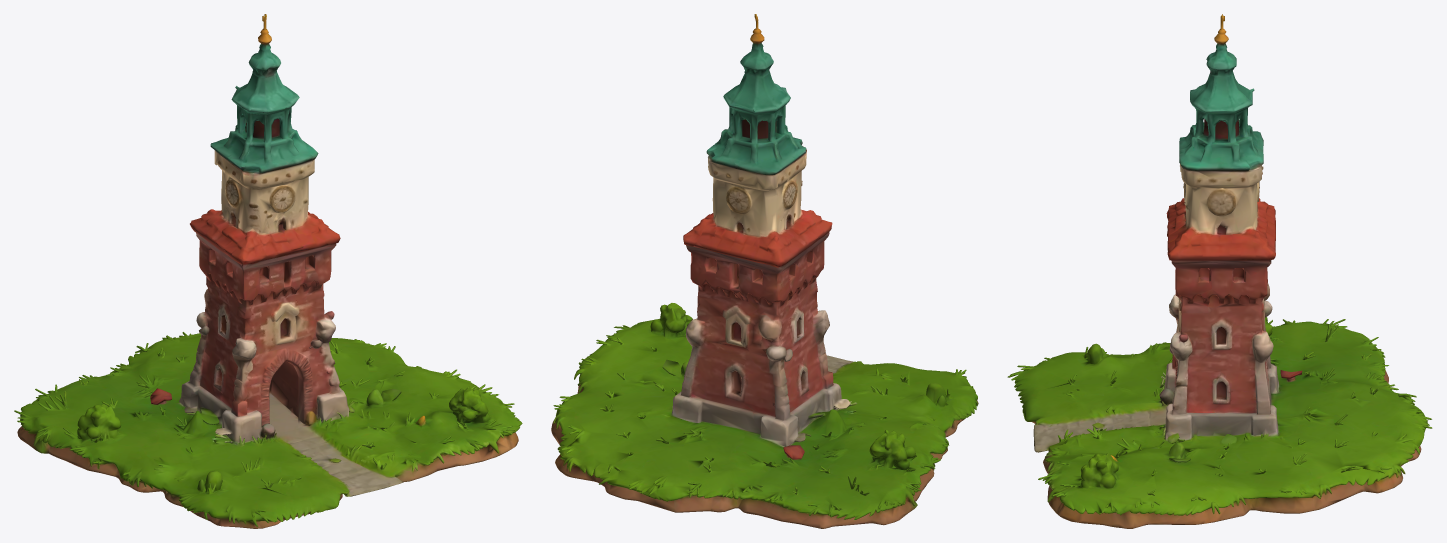
Rendered from lublin-gate.glb.
3 views of the same model, side by side, from view 1: azimuth 30°, elevation 25°; view 2: azimuth 150°, elevation 25°; view 3: azimuth 270°, elevation 25° (orthographic).
Visible parts, largest first — view 1: tripo_node_d01307f2-354a-4d1a-a548-15226f1677ae; view 2: tripo_node_d01307f2-354a-4d1a-a548-15226f1677ae; view 3: tripo_node_d01307f2-354a-4d1a-a548-15226f1677ae.
Boxes of the visible parts, x1=… form: tripo_node_d01307f2-354a-4d1a-a548-15226f1677ae: x1=14, y1=14, x2=522, y2=528; tripo_node_d01307f2-354a-4d1a-a548-15226f1677ae: x1=551, y1=14, x2=978, y2=528; tripo_node_d01307f2-354a-4d1a-a548-15226f1677ae: x1=1007, y1=14, x2=1432, y2=528.
Bounding box in the file's own units: 0.9636 × 0.9816 × 0.8998.
1 material, 1 textured.
